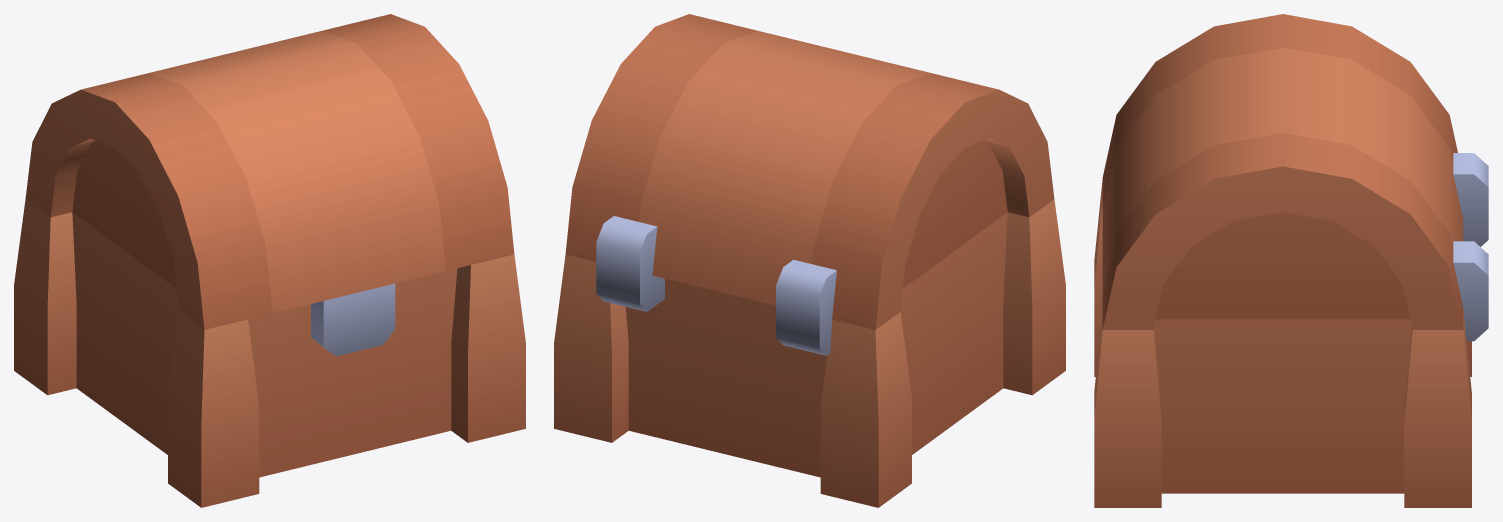
Rendered from chest.obj.
3 views of the same model, side by side, from view 1: azimuth 30°, elevation 25°; view 2: azimuth 150°, elevation 25°; view 3: azimuth 270°, elevation 25° (orthographic).
Visible parts, largest first — view 1: lid, chest; view 2: lid, chest; view 3: lid, chest.
Boxes of the visible parts, x1=… form: lid: x1=25, y1=14, x2=514, y2=356; chest: x1=14, y1=199, x2=525, y2=507; lid: x1=565, y1=14, x2=1054, y2=329; chest: x1=554, y1=199, x2=1065, y2=507; lid: x1=1102, y1=14, x2=1463, y2=329; chest: x1=1094, y1=153, x2=1488, y2=507.
Size of the model in its own units: 0.2604 by 0.2572 by 0.272.
Materials: 1 (1 with a texture image).
